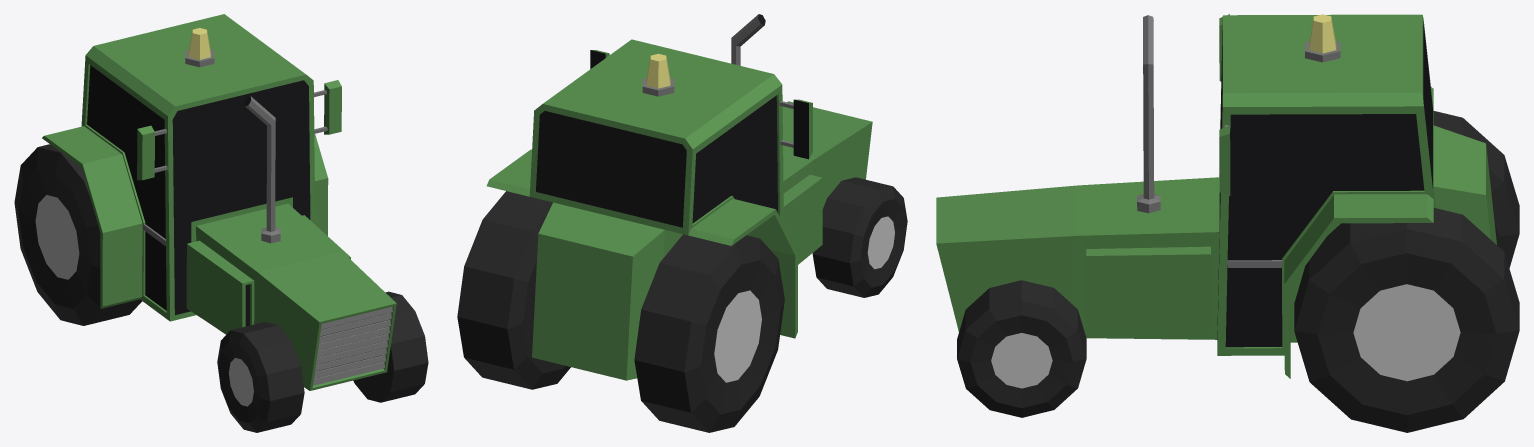
Rendered from Tractor_02_01.fbx.
The picture shows the model from 3 angles, left to right: view 1: azimuth 30°, elevation 25°; view 2: azimuth 150°, elevation 25°; view 3: azimuth 270°, elevation 25°; orthographic projection. The views are drawn at different scales.
Parts seen in each view (by area): view 1: Tractor_02_01; view 2: Tractor_02_01; view 3: Tractor_02_01.
Boxes of the visible parts, <box> form: Tractor_02_01: <box>14,14,428,432</box>; Tractor_02_01: <box>457,14,907,432</box>; Tractor_02_01: <box>936,14,1519,432</box>.
Size of the model in its own units: 3.42 by 4.19 by 6.3.
